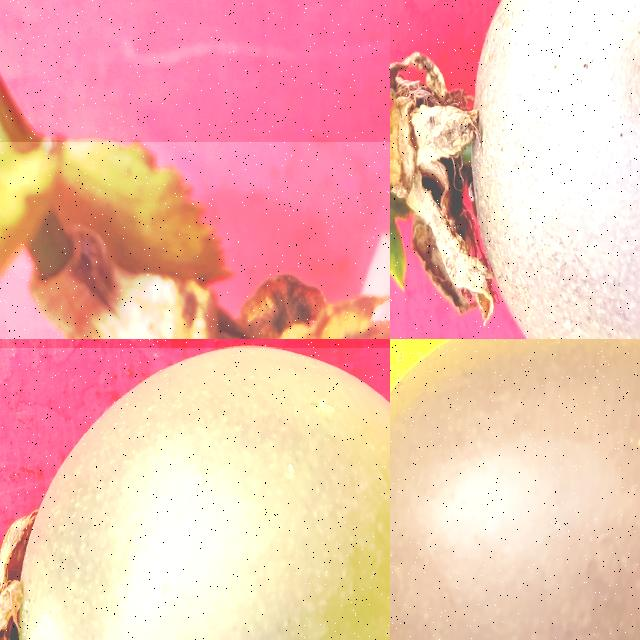Estado-1: (0, 348, 390, 640)
Estado-2: (0, 142, 390, 339)
Estado-4: (390, 339, 640, 640)
